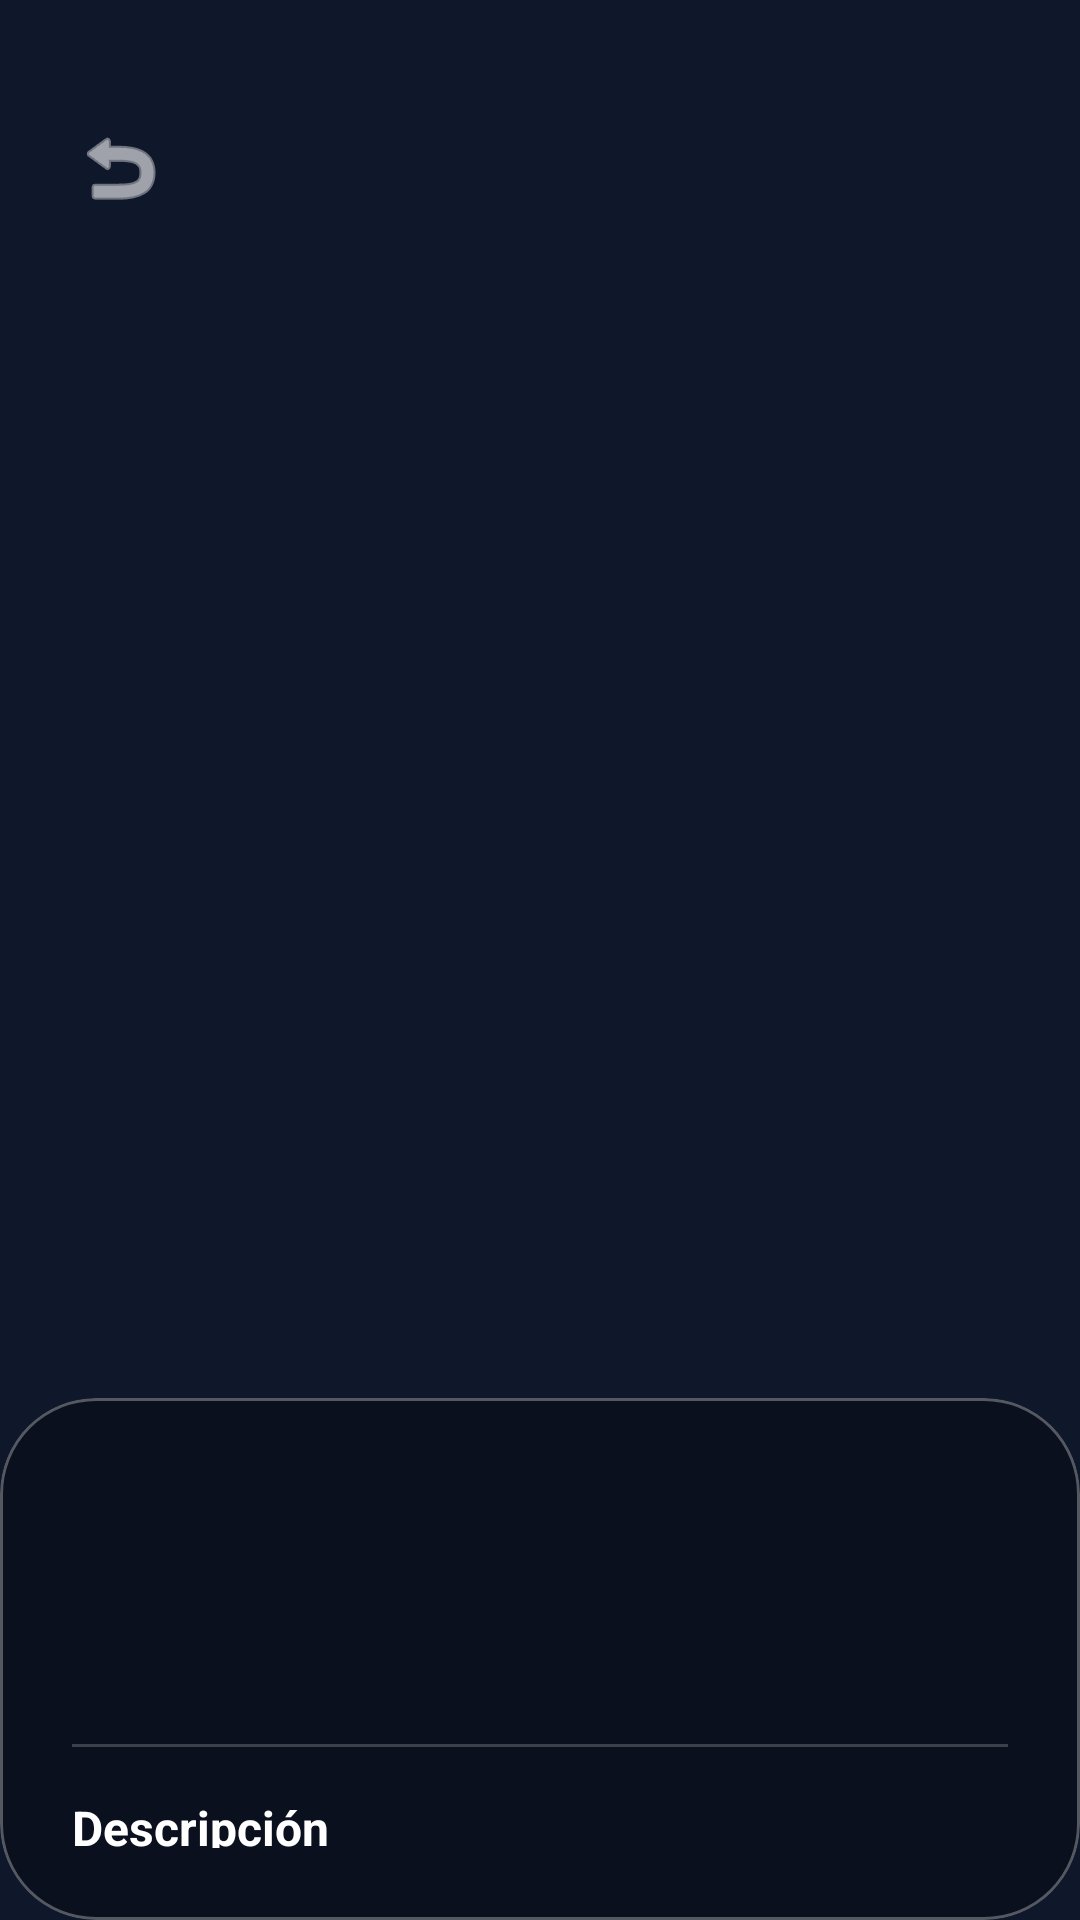

Named icons in this screenshot (1080w x 1920h) and their centers, point (x, y):
revert: point (121, 168)
